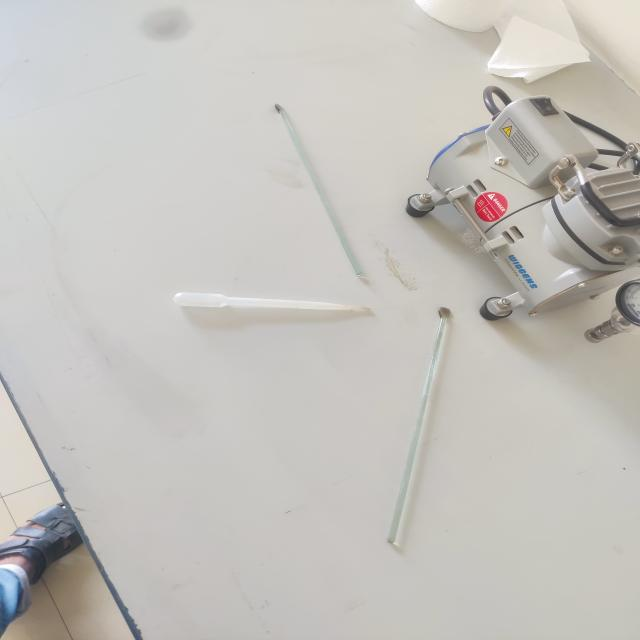Glass_Rod: (343, 285, 504, 558), (257, 88, 408, 293)
Pipette: (158, 260, 388, 338)
